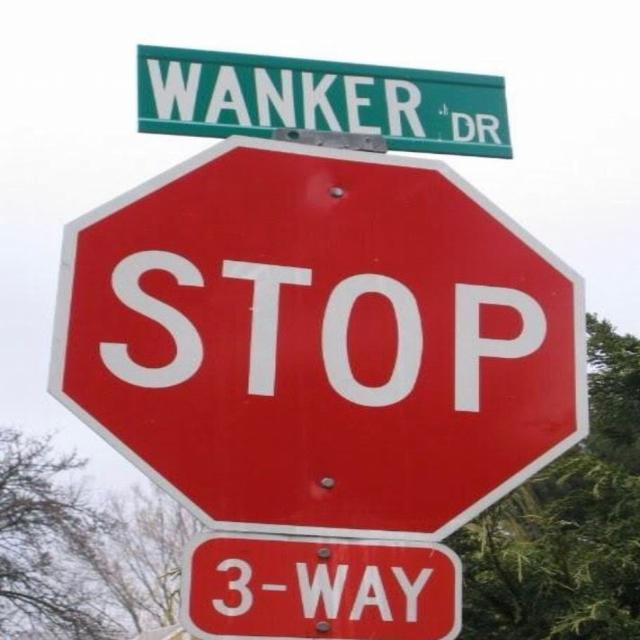stop: (45, 133, 590, 542)
